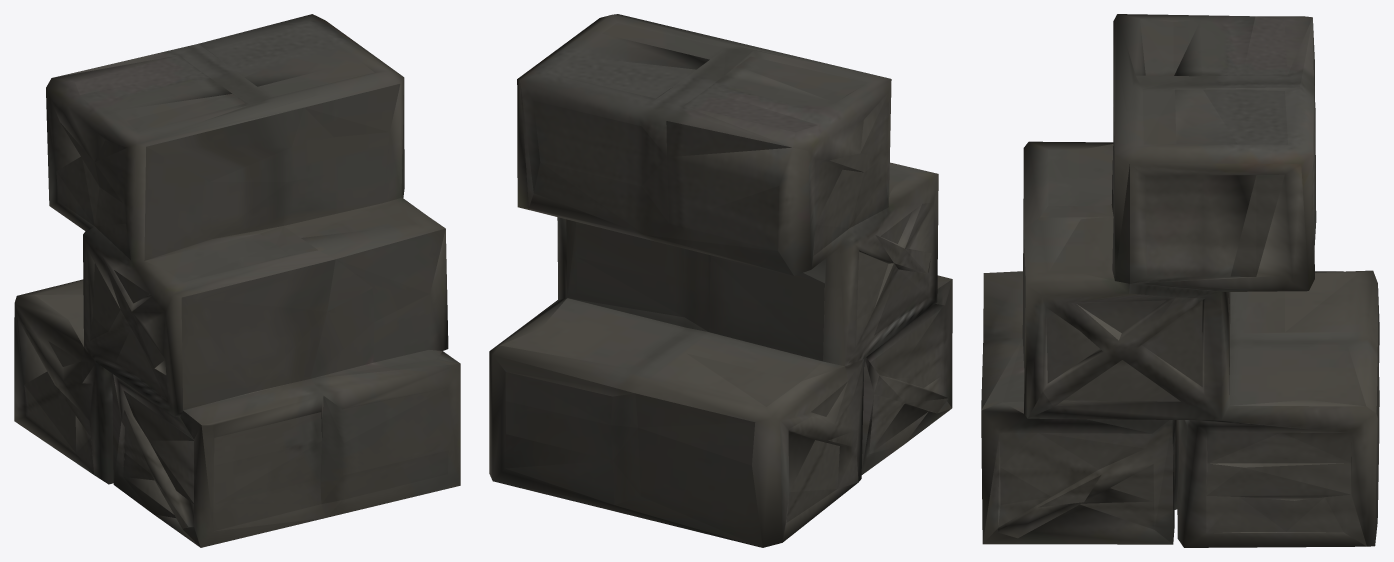
3 views of the same model, side by side, from view 1: azimuth 30°, elevation 25°; view 2: azimuth 150°, elevation 25°; view 3: azimuth 270°, elevation 25° (orthographic). The views are drawn at different scales.
Visible parts, largest first — view 1: tripo_node_ae94fd78.008; view 2: tripo_node_ae94fd78.008; view 3: tripo_node_ae94fd78.008.
Part boxes in pixels (box(x1,y1,x2,y2)): tripo_node_ae94fd78.008: box(14, 14, 460, 547); tripo_node_ae94fd78.008: box(489, 14, 952, 547); tripo_node_ae94fd78.008: box(981, 14, 1379, 547).
Bounding box in the file's own units: 7 × 8.57 × 7.8.
